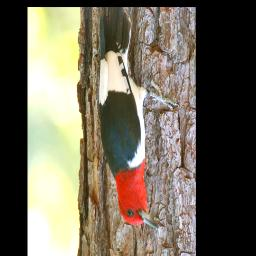Woodpecker: (97, 10, 178, 230)
